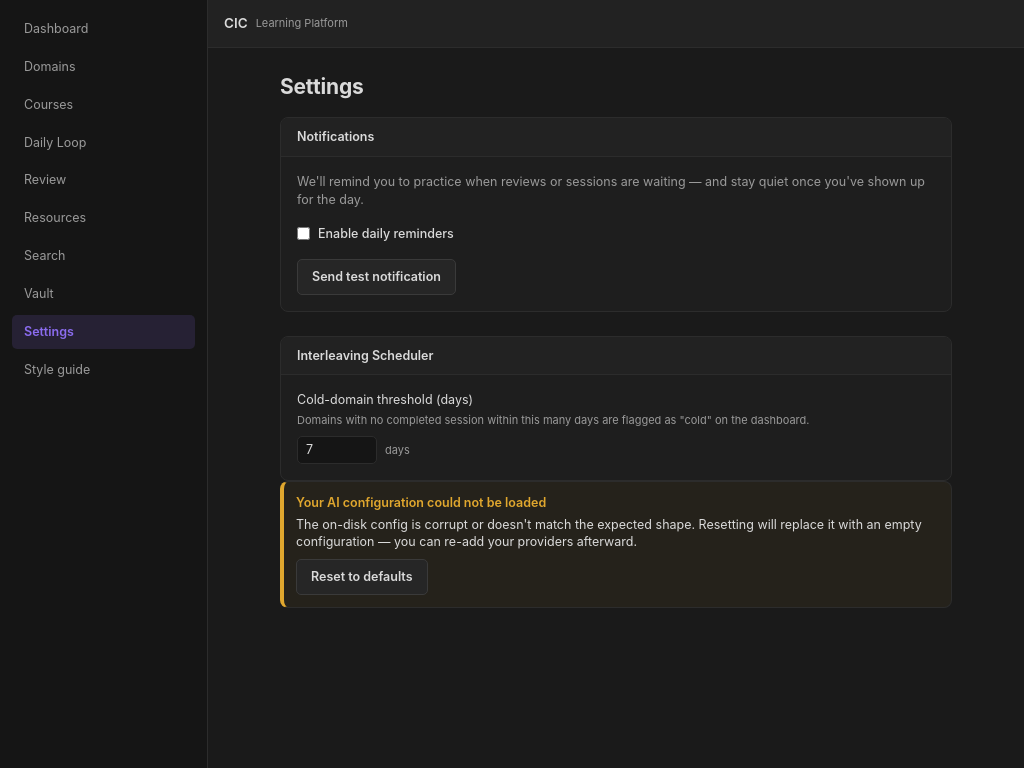
Test: NotificationsSettings (US1 / Feature 014) › sends a test notification on demand
Step 1. Click the button "Send test notification" → (376, 277), box [297, 259, 456, 295]
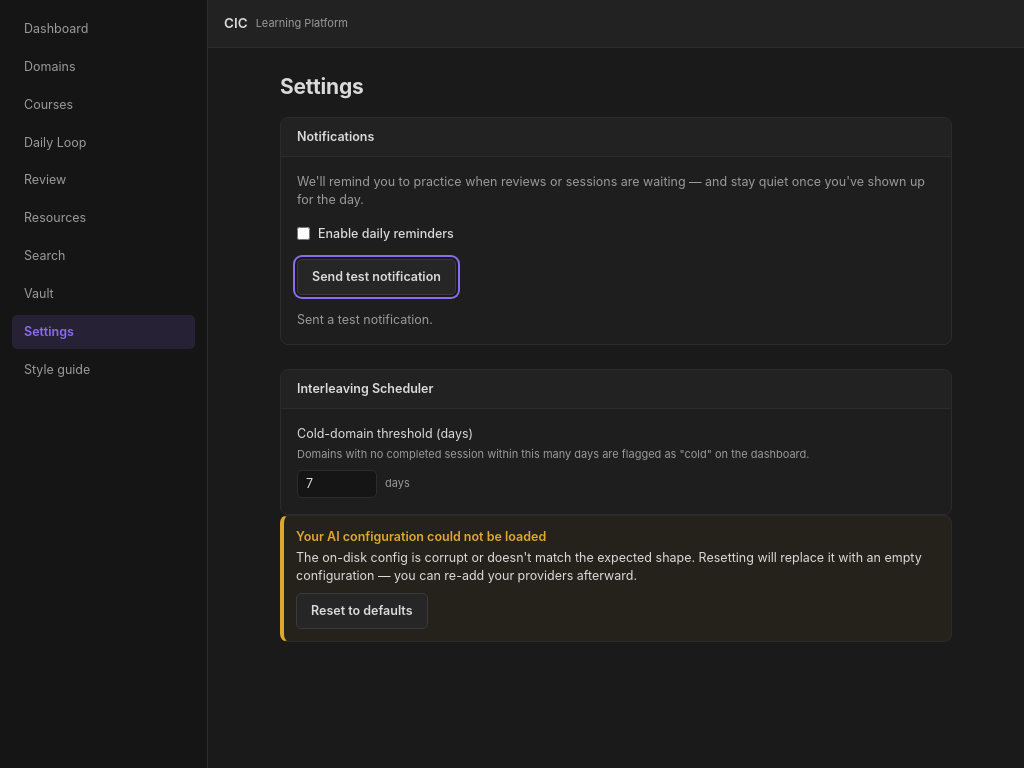
Now the text "Sent a test notification." is shown, box [297, 312, 433, 327]
